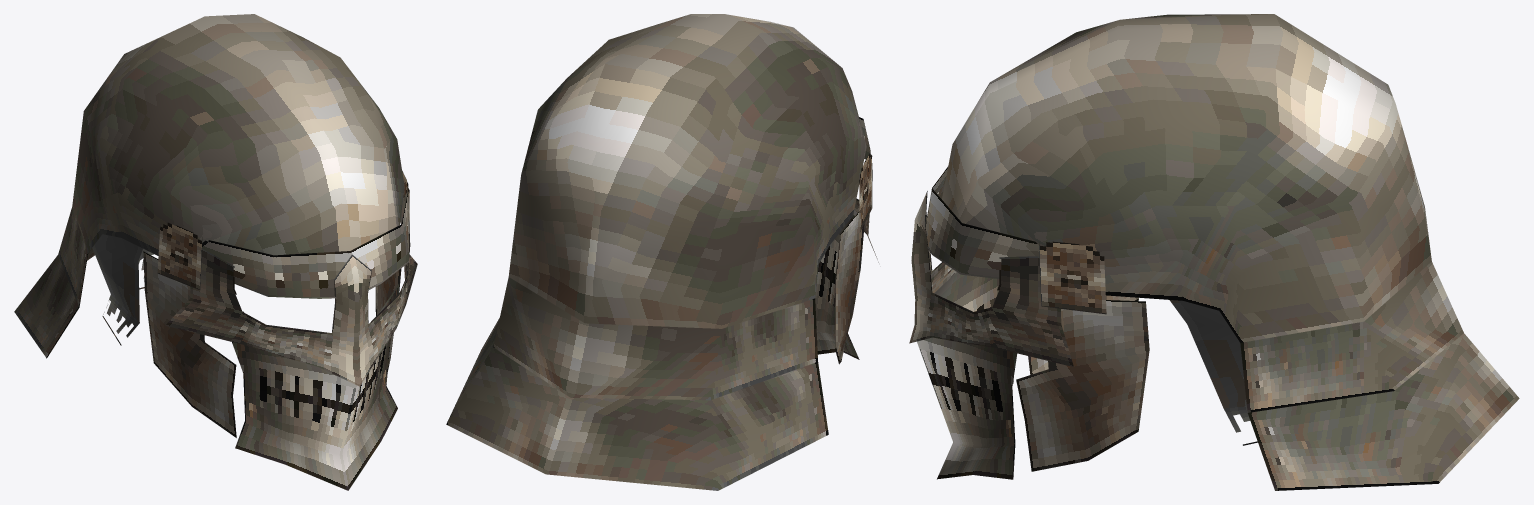
The model's file is m_hair199.glb.
3 renders of one model, left to right at view 1: azimuth 30°, elevation 25°; view 2: azimuth 150°, elevation 25°; view 3: azimuth 270°, elevation 25°, orthographic. The views are drawn at different scales.
Size of the model in its own units: 21.41 by 23.61 by 29.07.
1 material, 1 textured.
